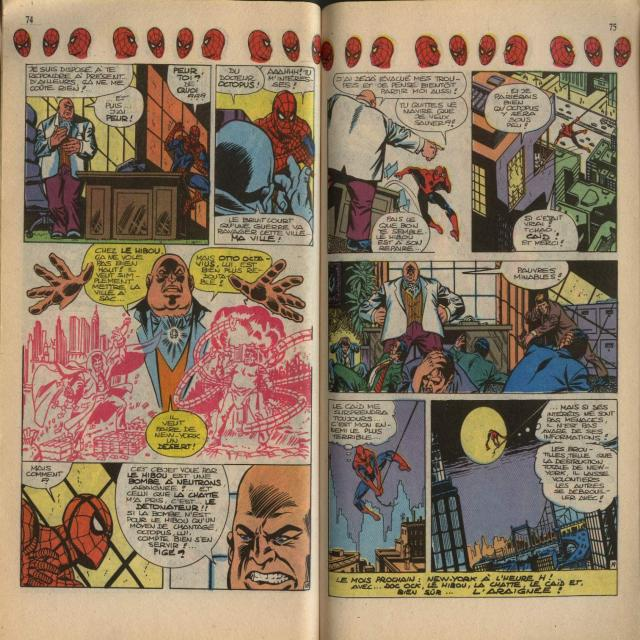comic_panel: (19, 247, 314, 466), (326, 258, 621, 396), (20, 459, 313, 592), (23, 61, 211, 246), (431, 396, 621, 574), (470, 69, 620, 256), (328, 70, 469, 256), (213, 64, 316, 248), (327, 397, 427, 576)
